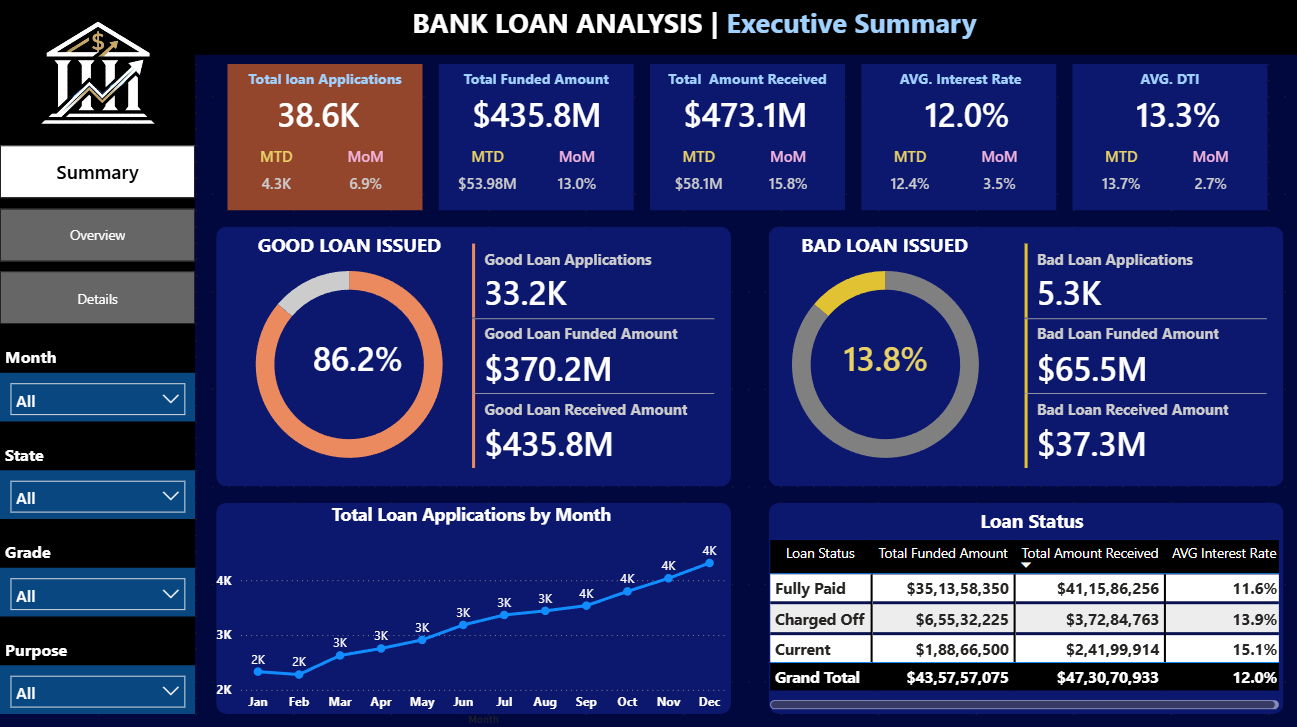

The page's visual inventory and layout, read from the dashboard file:
{"tool":"powerbi","page":{"name":"Summary","canvas":[1280,720],"ordinal":0},"visuals":[{"type":"shape","box":[224,64,192,144],"z":0,"group":"g1"},{"type":"shape","box":[432,64,192,144],"z":0,"group":"g2"},{"type":"shape","box":[640,64,192,144],"z":0,"group":"g3"},{"type":"shape","box":[848,64,192,144],"z":0,"group":"g4"},{"type":"shape","box":[1056,64,192,144],"z":0,"group":"g5"},{"type":"shape","box":[752,224,512,256],"z":0},{"type":"slicer","fields":{"Values":["public cleaned_financial_loan.address_state"]},"box":[0,464,192,48],"z":0,"group":"g6"},{"type":"slicer","fields":{"Values":["public cleaned_financial_loan.grade"]},"box":[0,560,192,48],"z":0,"group":"g8"},{"type":"slicer","fields":{"Values":["public cleaned_financial_loan.purpose"]},"box":[0,656,192,48],"z":0,"group":"g7"},{"type":"cardVisual","fields":{"Data":["public cleaned_financial_loan.Total Loan Applications"]},"box":[224,80,192,64],"z":1000,"group":"g1"},{"type":"cardVisual","fields":{"Data":["public cleaned_financial_loan.Total Funded Amount"]},"box":[416,80,240,64],"z":1000,"group":"g2"},{"type":"cardVisual","fields":{"Data":["public cleaned_financial_loan.Total Amount Received"]},"box":[624,80,240,64],"z":1000,"group":"g3"},{"type":"cardVisual","fields":{"Data":["public cleaned_financial_loan.AVG Interest Rate"]},"box":[832,80,240,64],"z":1000,"group":"g4"},{"type":"cardVisual","fields":{"Data":["public cleaned_financial_loan.AVG. DTI"]},"box":[1040,80,240,64],"z":1000,"group":"g5"},{"type":"shape","box":[208,224,512,256],"z":1000},{"type":"textbox","box":[0,432,80,32],"z":1000,"group":"g6"},{"type":"textbox","box":[0,528,80,32],"z":1000,"group":"g8"},{"type":"textbox","box":[0,624,96,32],"z":1000,"group":"g7"},{"type":"shape","box":[0,0,1280,55],"z":2000},{"type":"textbox","box":[224,64,192,32],"z":2000,"group":"g1"},{"type":"textbox","box":[432,64,192,32],"z":2000,"group":"g2"},{"type":"textbox","box":[640,64,192,32],"z":2000,"group":"g3"},{"type":"textbox","box":[848,64,192,32],"z":2000,"group":"g4"},{"type":"textbox","box":[1056,64,192,32],"z":2000,"group":"g5"},{"type":"cardVisual","title":"MTD","fields":{"Data":["public cleaned_financial_loan.MTD Loan Applications"]},"box":[224,144,96,64],"z":3000,"group":"g1"},{"type":"cardVisual","title":"MTD","fields":{"Data":["public cleaned_financial_loan.MTD Funded Amount"]},"box":[432,144,96,64],"z":3000,"group":"g2"},{"type":"cardVisual","title":"MTD","fields":{"Data":["public cleaned_financial_loan.MTD Total Amount Received"]},"box":[640,144,96,64],"z":3000,"group":"g3"},{"type":"cardVisual","title":"MTD","fields":{"Data":["public cleaned_financial_loan.MTD Avg Interest Rate"]},"box":[848,144,96,64],"z":3000,"group":"g4"},{"type":"cardVisual","title":"MTD","fields":{"Data":["public cleaned_financial_loan.MTD Avg DTI"]},"box":[1056,144,96,64],"z":3000,"group":"g5"},{"type":"cardVisual","fields":{"Data":["public cleaned_financial_loan.Bad Loan %"]},"box":[768,320,208,64],"z":3000},{"type":"shape","box":[0,32,192,672],"z":4000},{"type":"cardVisual","title":"MoM","fields":{"Data":["public cleaned_financial_loan.MoM Loan Application"]},"box":[320,144,80,64],"z":4000,"group":"g1"},{"type":"cardVisual","title":"MoM","fields":{"Data":["public cleaned_financial_loan.MoM Funded Amount"]},"box":[528,144,80,64],"z":4000,"group":"g2"},{"type":"cardVisual","title":"MoM","fields":{"Data":["public cleaned_financial_loan.MoM Total Amount Received"]},"box":[736,144,80,64],"z":4000,"group":"g3"},{"type":"cardVisual","title":"MoM","fields":{"Data":["public cleaned_financial_loan.MoM Avg Interest Rate"]},"box":[944,144,80,64],"z":4000,"group":"g4"},{"type":"cardVisual","title":"MoM","fields":{"Data":["public cleaned_financial_loan.MoM Avg DTI"]},"box":[1152,144,80,64],"z":4000,"group":"g5"},{"type":"cardVisual","fields":{"Data":["public cleaned_financial_loan.Good Loan %"]},"box":[256,320,192,64],"z":5000},{"type":"textbox","box":[384,0,592,48],"z":6000},{"type":"donutChart","fields":{"Category":["public cleaned_financial_loan.Good vs Bad Loan"],"Y":["public cleaned_financial_loan.Total Loan Applications"]},"box":[192,240,304,240],"z":7000},{"type":"group","id":"g1","title":"Group 1","box":[224,64,192,144],"z":8000},{"type":"group","id":"g2","title":"Group 1","box":[416,64,240,144],"z":9000},{"type":"group","id":"g3","title":"Group 1","box":[624,64,240,144],"z":10000},{"type":"group","id":"g4","title":"Group 1","box":[832,64,240,144],"z":11000},{"type":"group","id":"g5","title":"Group 1","box":[1040,64,240,160],"z":12000},{"type":"donutChart","fields":{"Category":["public cleaned_financial_loan.Good vs Bad Loan"],"Y":["public cleaned_financial_loan.Total Loan Applications"]},"box":[720,240,304,240],"z":13000},{"type":"textbox","box":[240,224,208,48],"z":14000},{"type":"cardVisual","fields":{"Data":["public cleaned_financial_loan.Good Loan Applications","public cleaned_financial_loan.Good Loan Funded Amount","public cleaned_financial_loan.Good Loan Received Amount"]},"box":[448,224,272,256],"z":15000},{"type":"textbox","box":[784,224,224,48],"z":16000},{"type":"cardVisual","fields":{"Data":["public cleaned_financial_loan.Bad Loan Applications","public cleaned_financial_loan.Bad Loan Funded Amount","public cleaned_financial_loan.Bad Loan Received Amount"]},"box":[992,224,272,256],"z":17000},{"type":"shape","box":[208,496,512,208],"z":18000},{"type":"stackedAreaChart","fields":{"Category":["Date Table.Month"],"Y":["public cleaned_financial_loan.Total Loan Applications"]},"box":[208,480,512,240],"z":19000},{"type":"shape","box":[752,496,512,208],"z":20000},{"type":"tableEx","fields":{"Values":["public cleaned_financial_loan.Loan Status","public cleaned_financial_loan.Total Funded Amount","public cleaned_financial_loan.Total Amount Received","public cleaned_financial_loan.AVG Interest Rate"]},"box":[752,528,512,176],"z":21000},{"type":"textbox","box":[944,496,144,48],"z":22000},{"type":"slicer","fields":{"Values":["Date Table.Month"]},"box":[0,368,192,48],"z":23000},{"type":"textbox","box":[0,336,80,32],"z":24000},{"type":"group","id":"g6","title":"Group 2","box":[0,432,192,80],"z":25000},{"type":"group","id":"g7","title":"Group 5","box":[0,624,192,80],"z":26000},{"type":"group","id":"g8","title":"Group 3","box":[0,528,192,80],"z":27000},{"type":"pageNavigator","box":[0,144,192,176],"z":28000},{"type":"image","box":[0,0,192,144],"z":28001}]}

Visuals, with their boxes in screenshot pixels (x1, y1, x2, y2), scaled from the page's 1280x720 canvas onto the 1297x727 screenshot:
shape: box=[227, 65, 422, 210]
shape: box=[438, 65, 632, 210]
shape: box=[648, 65, 843, 210]
shape: box=[859, 65, 1054, 210]
shape: box=[1070, 65, 1265, 210]
shape: box=[762, 226, 1281, 485]
slicer - public cleaned_financial_loan.address_state: box=[0, 469, 195, 517]
slicer - public cleaned_financial_loan.grade: box=[0, 565, 195, 614]
slicer - public cleaned_financial_loan.purpose: box=[0, 662, 195, 711]
cardVisual - public cleaned_financial_loan.Total Loan Applications: box=[227, 81, 422, 145]
cardVisual - public cleaned_financial_loan.Total Funded Amount: box=[422, 81, 665, 145]
cardVisual - public cleaned_financial_loan.Total Amount Received: box=[632, 81, 875, 145]
cardVisual - public cleaned_financial_loan.AVG Interest Rate: box=[843, 81, 1086, 145]
cardVisual - public cleaned_financial_loan.AVG. DTI: box=[1054, 81, 1296, 145]
shape: box=[211, 226, 730, 485]
textbox: box=[0, 436, 81, 469]
textbox: box=[0, 533, 81, 565]
textbox: box=[0, 630, 97, 662]
shape: box=[0, 0, 1296, 56]
textbox: box=[227, 65, 422, 97]
textbox: box=[438, 65, 632, 97]
textbox: box=[648, 65, 843, 97]
textbox: box=[859, 65, 1054, 97]
textbox: box=[1070, 65, 1265, 97]
"MTD" cardVisual: box=[227, 145, 324, 210]
"MTD" cardVisual: box=[438, 145, 535, 210]
"MTD" cardVisual: box=[648, 145, 746, 210]
"MTD" cardVisual: box=[859, 145, 957, 210]
"MTD" cardVisual: box=[1070, 145, 1167, 210]
cardVisual - public cleaned_financial_loan.Bad Loan %: box=[778, 323, 989, 388]
shape: box=[0, 32, 195, 711]
"MoM" cardVisual: box=[324, 145, 405, 210]
"MoM" cardVisual: box=[535, 145, 616, 210]
"MoM" cardVisual: box=[746, 145, 827, 210]
"MoM" cardVisual: box=[957, 145, 1038, 210]
"MoM" cardVisual: box=[1167, 145, 1248, 210]
cardVisual - public cleaned_financial_loan.Good Loan %: box=[259, 323, 454, 388]
textbox: box=[389, 0, 989, 48]
donutChart - public cleaned_financial_loan.Good vs Bad Loan x public cleaned_financial_loan.Total Loan Applications: box=[195, 242, 503, 485]
"Group 1" group: box=[227, 65, 422, 210]
"Group 1" group: box=[422, 65, 665, 210]
"Group 1" group: box=[632, 65, 875, 210]
"Group 1" group: box=[843, 65, 1086, 210]
"Group 1" group: box=[1054, 65, 1296, 226]
donutChart - public cleaned_financial_loan.Good vs Bad Loan x public cleaned_financial_loan.Total Loan Applications: box=[730, 242, 1038, 485]
textbox: box=[243, 226, 454, 275]
cardVisual - public cleaned_financial_loan.Good Loan Applications x public cleaned_financial_loan.Good Loan Funded Amount: box=[454, 226, 730, 485]
textbox: box=[794, 226, 1021, 275]
cardVisual - public cleaned_financial_loan.Bad Loan Applications x public cleaned_financial_loan.Bad Loan Funded Amount: box=[1005, 226, 1281, 485]
shape: box=[211, 501, 730, 711]
stackedAreaChart - Date Table.Month x public cleaned_financial_loan.Total Loan Applications: box=[211, 485, 730, 726]
shape: box=[762, 501, 1281, 711]
tableEx - public cleaned_financial_loan.Loan Status x public cleaned_financial_loan.Total Funded Amount: box=[762, 533, 1281, 711]
textbox: box=[957, 501, 1102, 549]
slicer - Date Table.Month: box=[0, 372, 195, 420]
textbox: box=[0, 339, 81, 372]
"Group 2" group: box=[0, 436, 195, 517]
"Group 5" group: box=[0, 630, 195, 711]
"Group 3" group: box=[0, 533, 195, 614]
pageNavigator: box=[0, 145, 195, 323]
image: box=[0, 0, 195, 145]
